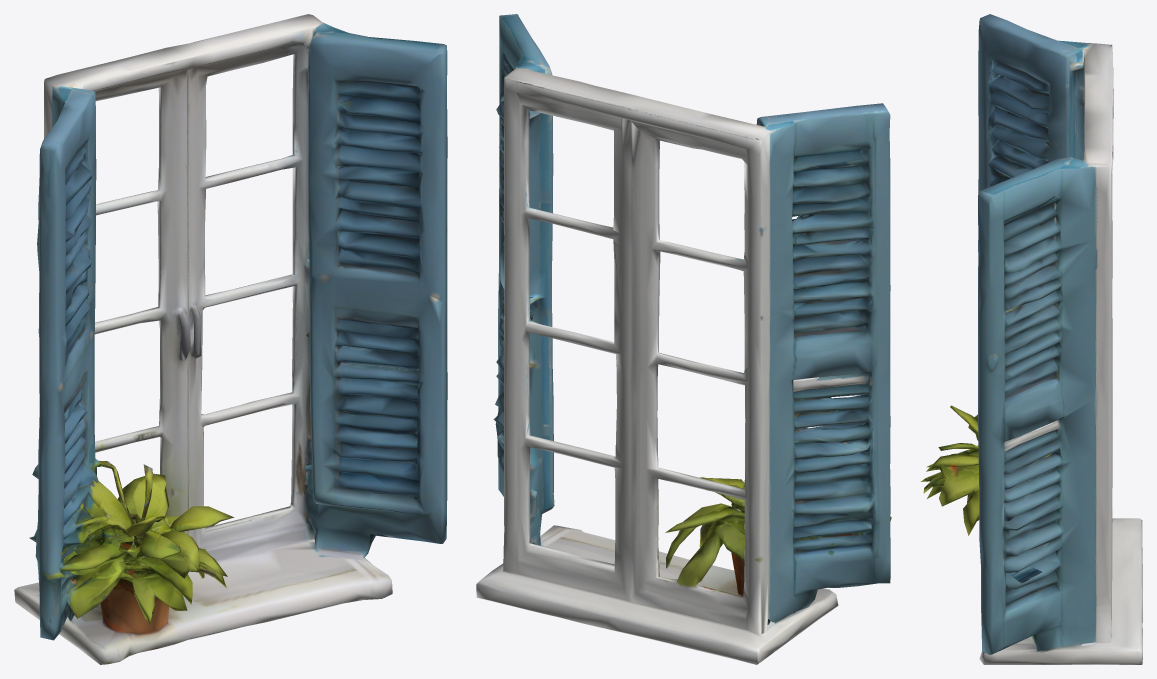
Rendered from window.glb.
The picture shows the model from 3 angles, left to right: view 1: azimuth 30°, elevation 25°; view 2: azimuth 150°, elevation 25°; view 3: azimuth 270°, elevation 25°; orthographic projection. The views are drawn at different scales.
Bounding box in the file's own units: 52615 × 65695 × 26804.
Materials: 1 (1 with a texture image).
